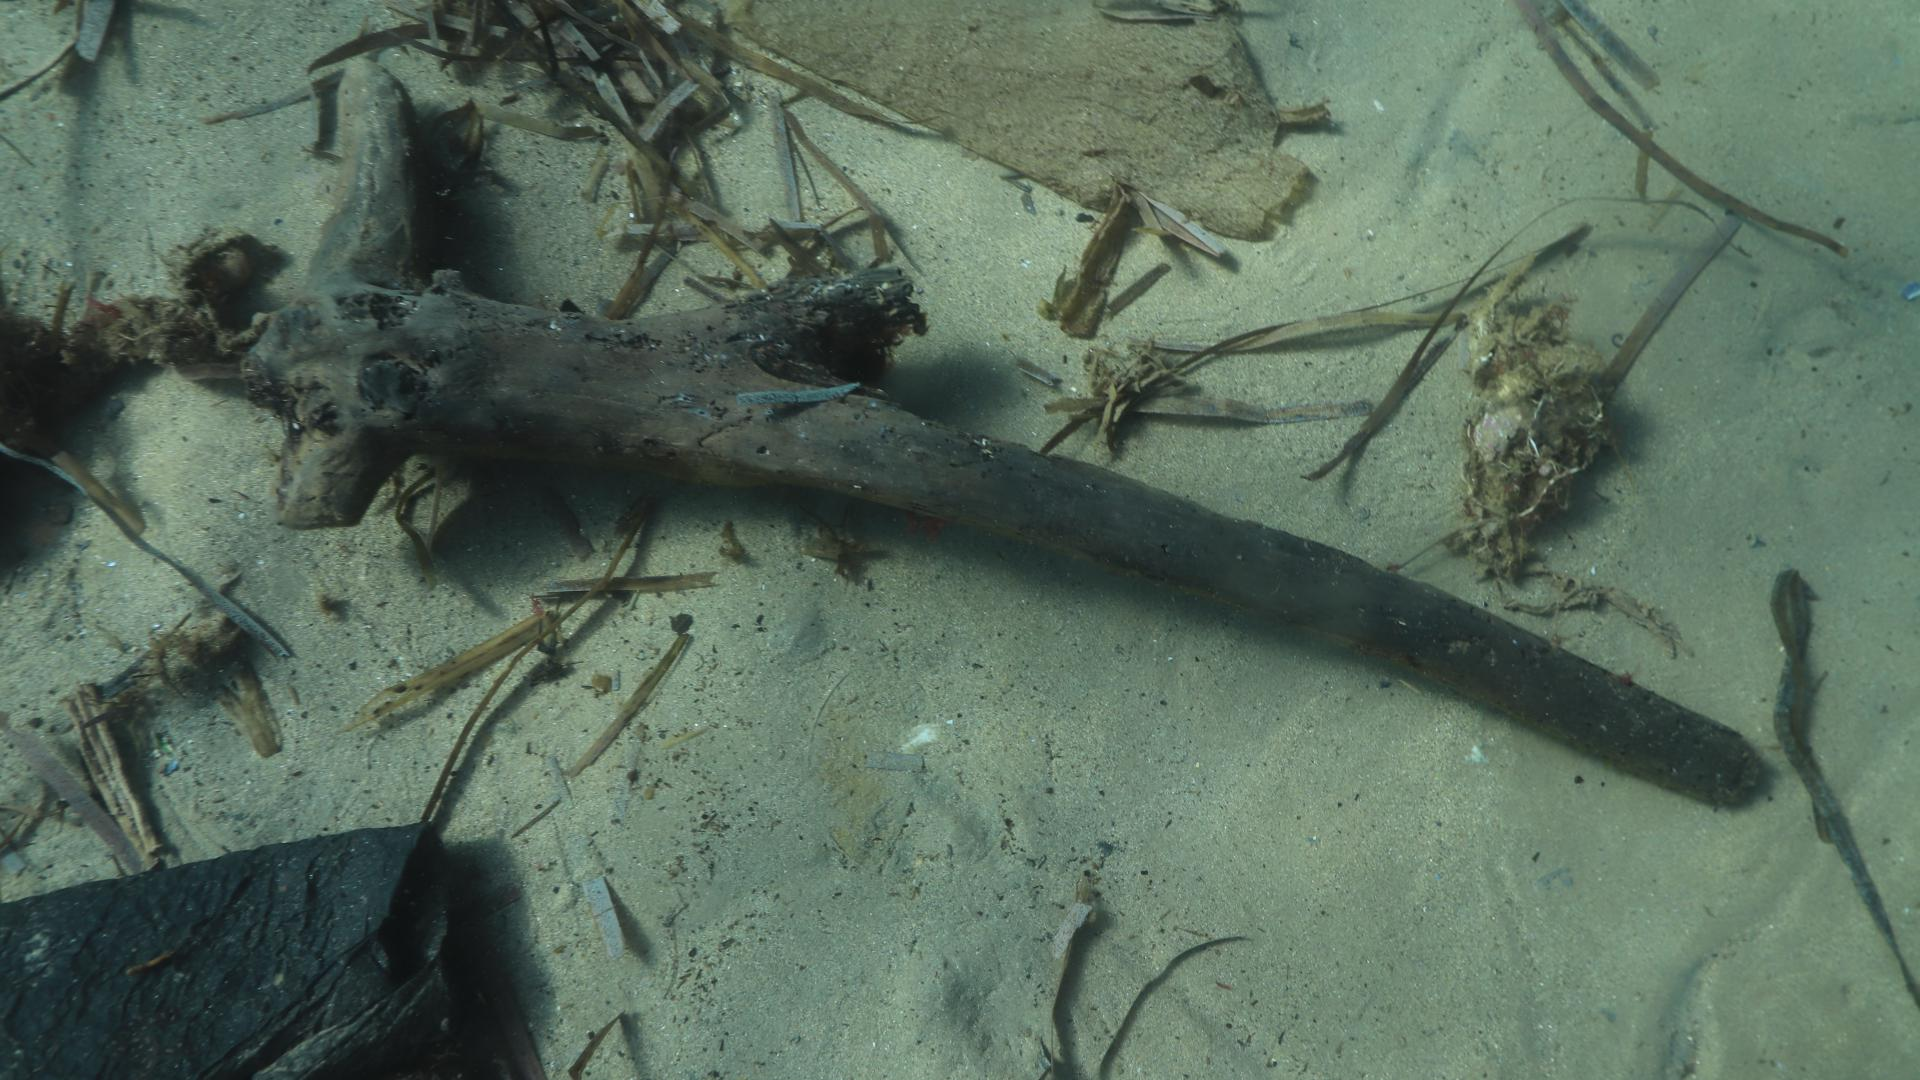wood: (243, 57, 1763, 812), (698, 0, 1309, 239)
